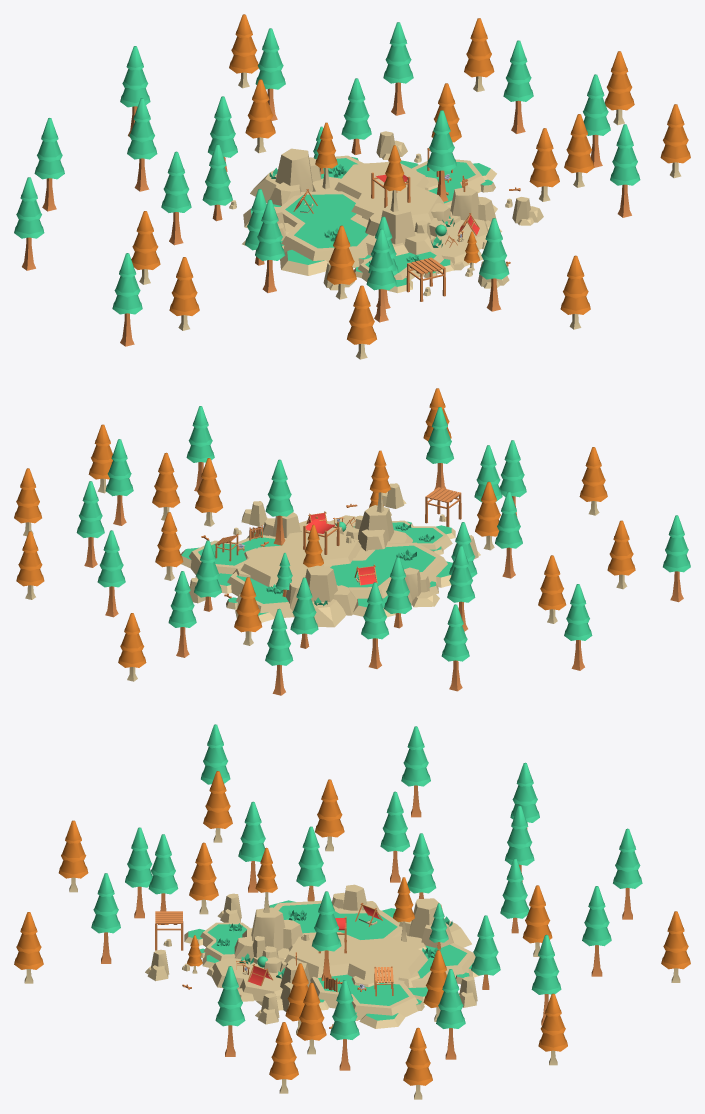
3 renders of one model, top to bottom at view 1: azimuth 30°, elevation 25°; view 2: azimuth 150°, elevation 25°; view 3: azimuth 270°, elevation 25°, orthographic. The views are drawn at different scales.
Visible parts, largest first — view 1: rockFlat, Mesh_rockFlatGrass002_1, Mesh_rockFlatGrass002, rockB002, rockB, rockFlat001, rockB005, Mesh_tree002_1, Mesh_treeLarge010_1, Mesh_treeLarge001_1, Mesh_treeLarge002_1, Mesh_treeLarge013_1 (+36 smaller); view 2: rockFlat, rockB002, Mesh_rockFlatGrass002_1, rockB, Mesh_rockFlatGrass002, Mesh_rockFlatGrass004, Mesh_tree003_1, Mesh_treeLarge003_1, Mesh_treeLarge010_1, Mesh_treeLarge008_1, Mesh_tree001_1, Mesh_treeLarge011_1 (+37 smaller); view 3: rockFlat, rockB, Mesh_rockFlatGrass003, Mesh_rockFlatGrass002_1, rockFlat001, rockB002, Mesh_rockFlatGrass003_1, Mesh_treeLarge003_1, Mesh_treeLarge005_1, Mesh_treeLarge007_1, Mesh_tree_1, Mesh_tree002_1 (+38 smaller).
Part boxes in pixels (<box>): rockFlat: <box>312,162,444,226</box>; Mesh_rockFlatGrass002_1: <box>250,194,371,264</box>; Mesh_rockFlatGrass002: <box>243,191,373,275</box>; rockB002: <box>250,148,321,205</box>; rockB: <box>365,203,434,255</box>; rockFlat001: <box>430,219,488,270</box>; rockB005: <box>447,187,501,232</box>; Mesh_tree002_1: <box>341,78,371,139</box>; Mesh_treeLarge010_1: <box>383,22,413,83</box>; Mesh_treeLarge001_1: <box>161,151,191,212</box>; Mesh_treeLarge002_1: <box>127,98,157,159</box>; Mesh_treeLarge013_1: <box>34,118,64,179</box>; rockFlat: <box>233,529,366,586</box>; rockB002: <box>286,565,357,627</box>; Mesh_rockFlatGrass002_1: <box>330,545,452,607</box>; rockB: <box>357,505,412,551</box>; Mesh_rockFlatGrass002: <box>325,542,451,617</box>; Mesh_rockFlatGrass004: <box>220,564,294,622</box>; Mesh_tree003_1: <box>290,577,318,634</box>; Mesh_treeLarge003_1: <box>265,459,293,516</box>; Mesh_treeLarge010_1: <box>97,530,125,587</box>; Mesh_treeLarge008_1: <box>105,439,133,496</box>; Mesh_tree001_1: <box>384,557,411,613</box>; Mesh_treeLarge011_1: <box>168,571,196,627</box>; rockFlat: <box>280,932,427,987</box>; rockB: <box>234,907,302,960</box>; Mesh_rockFlatGrass003: <box>310,976,424,1028</box>; Mesh_rockFlatGrass002_1: <box>269,900,399,939</box>; rockFlat001: <box>206,958,282,1001</box>; rockB002: <box>399,898,471,947</box>; Mesh_rockFlatGrass003_1: <box>318,974,421,1020</box>; Mesh_treeLarge003_1: <box>312,891,341,951</box>; Mesh_treeLarge005_1: <box>91,873,120,933</box>; Mesh_treeLarge007_1: <box>215,966,245,1026</box>; Mesh_tree_1: <box>296,826,325,886</box>; Mesh_tree002_1: <box>471,915,500,975</box>.
Size of what is drawn, in the model's own units: 12.43 by 2.35 by 11.93.
